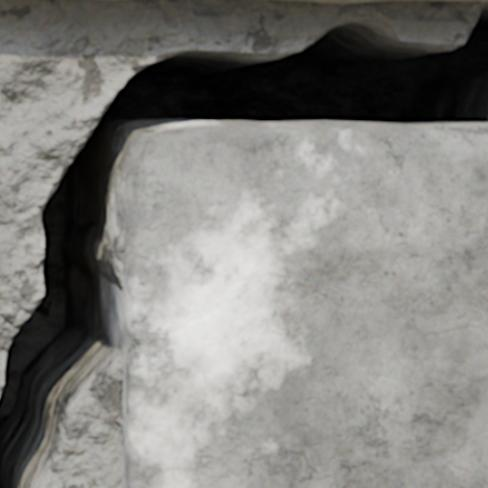brick: (123, 125, 487, 487), (288, 0, 422, 2), (428, 0, 487, 1)
crack: (0, 1, 487, 487)
